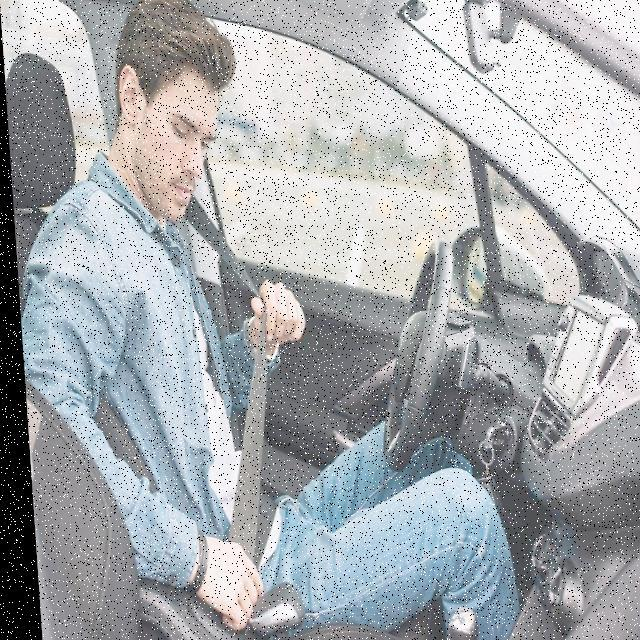seatbelt: (106, 222, 285, 590)
